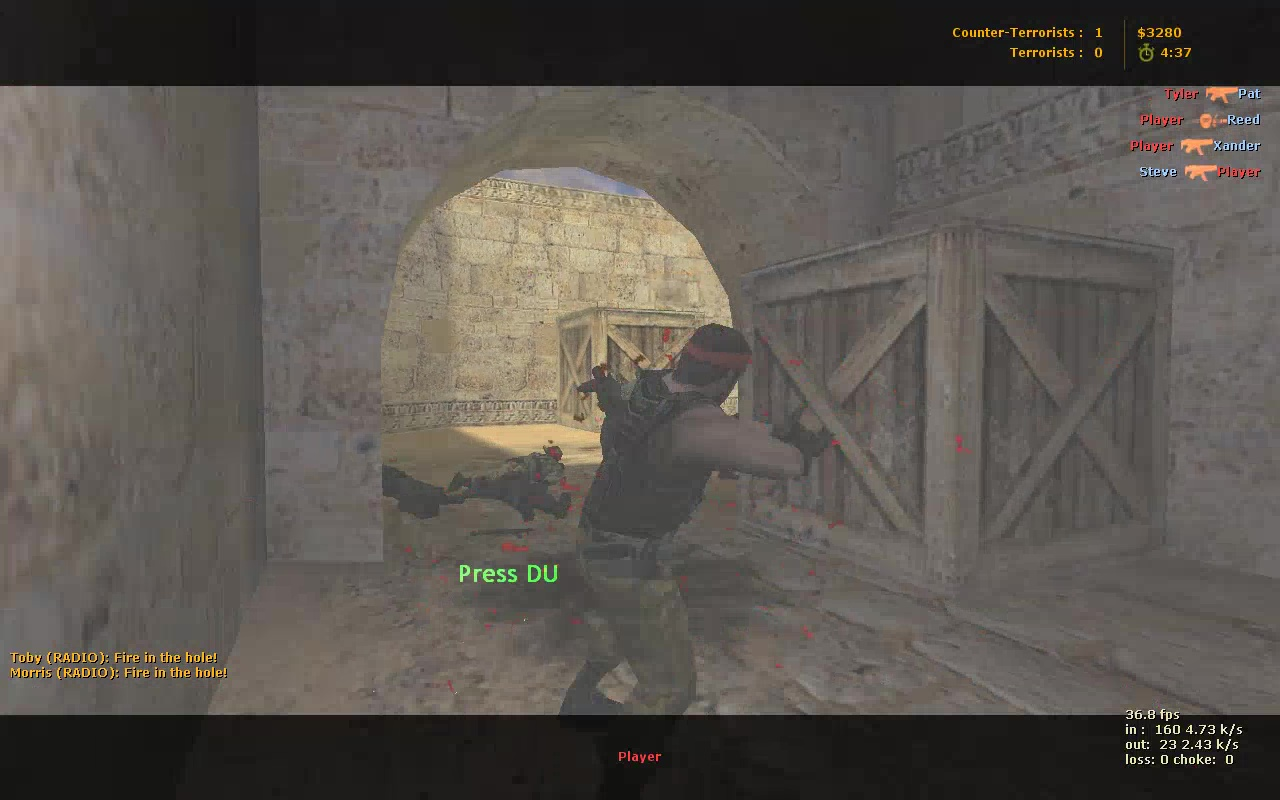dead: (430, 443, 570, 499)
terr1: (574, 326, 778, 717)
